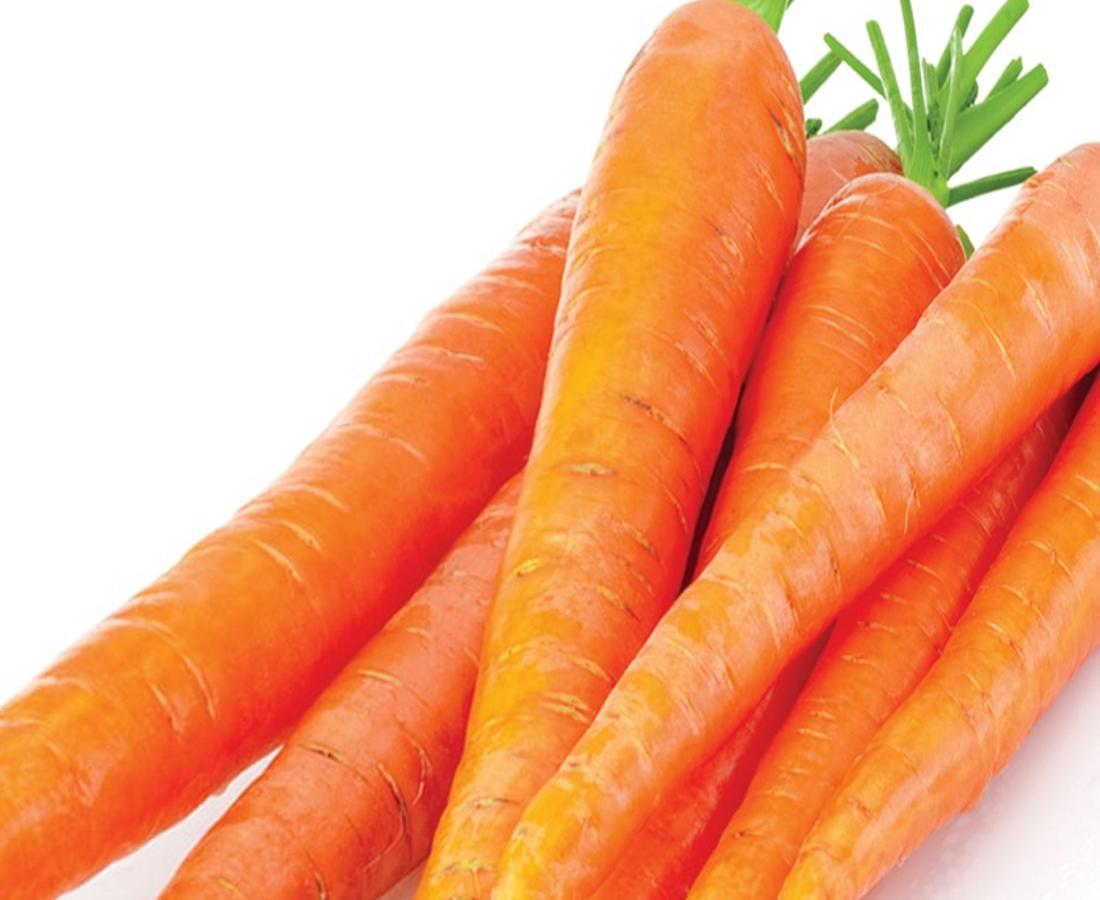carrot: (5, 149, 1100, 900), (581, 4, 1100, 900)
